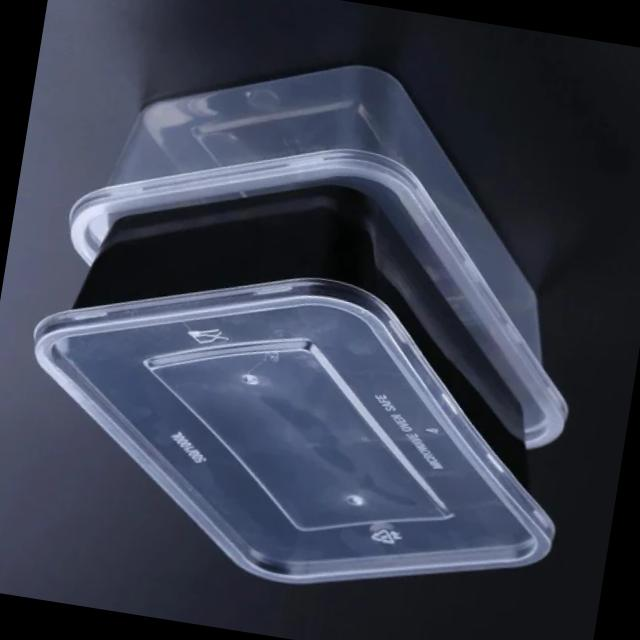plastic_box: (0, 4, 640, 613)
